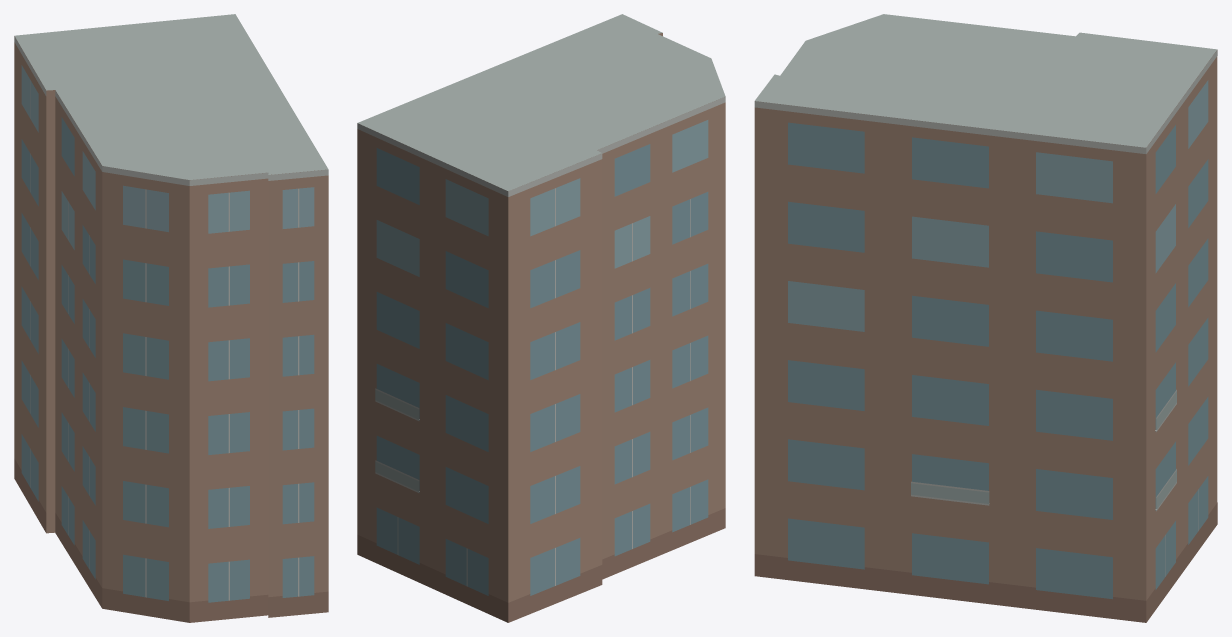
The model's file is survey-upis-32887081.glb.
The picture shows the model from 3 angles, left to right: view 1: azimuth 30°, elevation 25°; view 2: azimuth 150°, elevation 25°; view 3: azimuth 270°, elevation 25°; orthographic projection. The views are drawn at different scales.
Parts seen in each view (by area): view 1: survey-upis-32887081.tmp; view 2: survey-upis-32887081.tmp; view 3: survey-upis-32887081.tmp.
Part boxes in pixels (x1,y1,x2,y2): survey-upis-32887081.tmp: [14, 14, 328, 622]; survey-upis-32887081.tmp: [357, 14, 725, 622]; survey-upis-32887081.tmp: [754, 14, 1217, 622].
Bounding box in the file's own units: 10.88 × 18 × 15.9.
